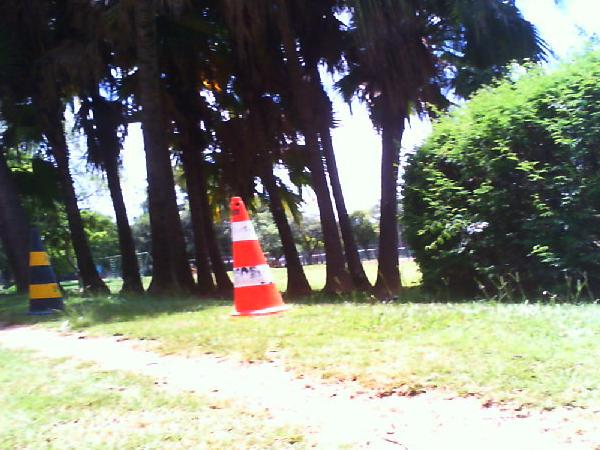0 cone: (229, 196, 292, 318), (26, 228, 66, 316)
